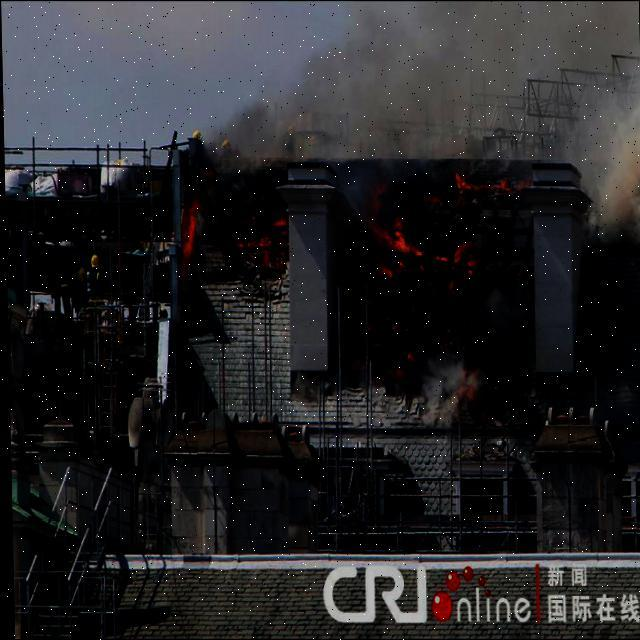Fire: (344, 166, 530, 404), (180, 153, 288, 284)
